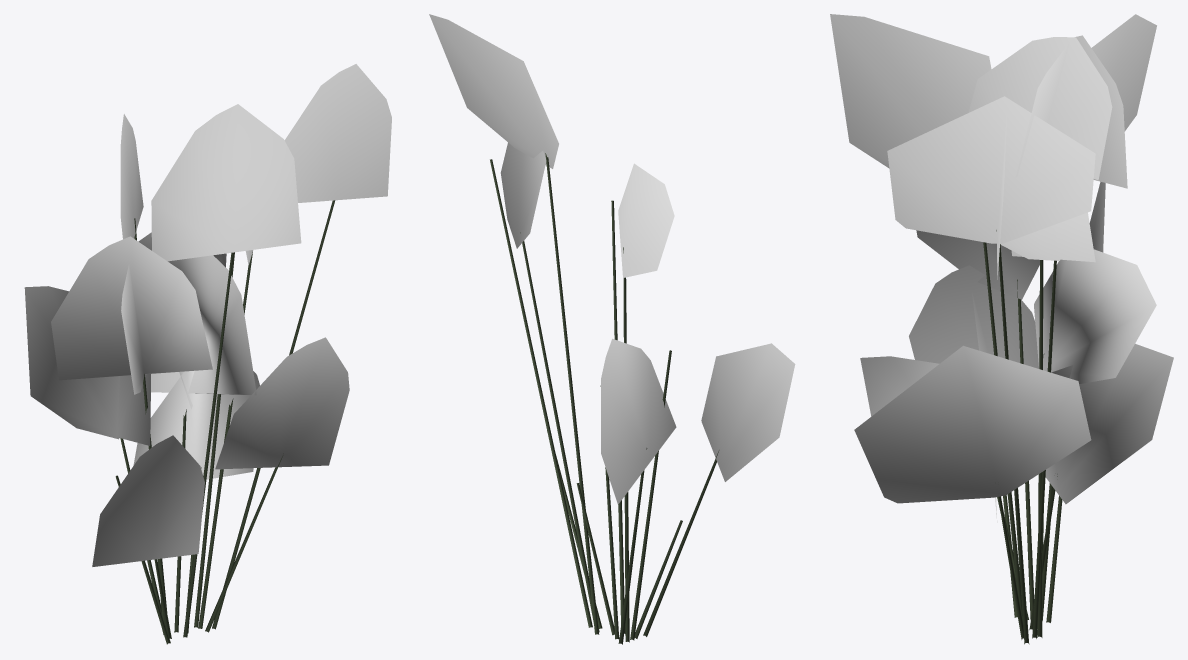
The model's file is bamboo_4.glb.
The picture shows the model from 3 angles, left to right: view 1: azimuth 30°, elevation 25°; view 2: azimuth 150°, elevation 25°; view 3: azimuth 270°, elevation 25°; orthographic projection. The views are drawn at different scales.
Visible parts, largest first — view 1: bamboo_4; view 2: bamboo_4; view 3: bamboo_4.
Boxes of the visible parts, x1,y1,x2,y2 form: bamboo_4: (24,64,391,644); bamboo_4: (429,14,795,644); bamboo_4: (830,14,1173,644).
Bounding box in the file's own units: 4.6 × 7.12 × 3.44.
